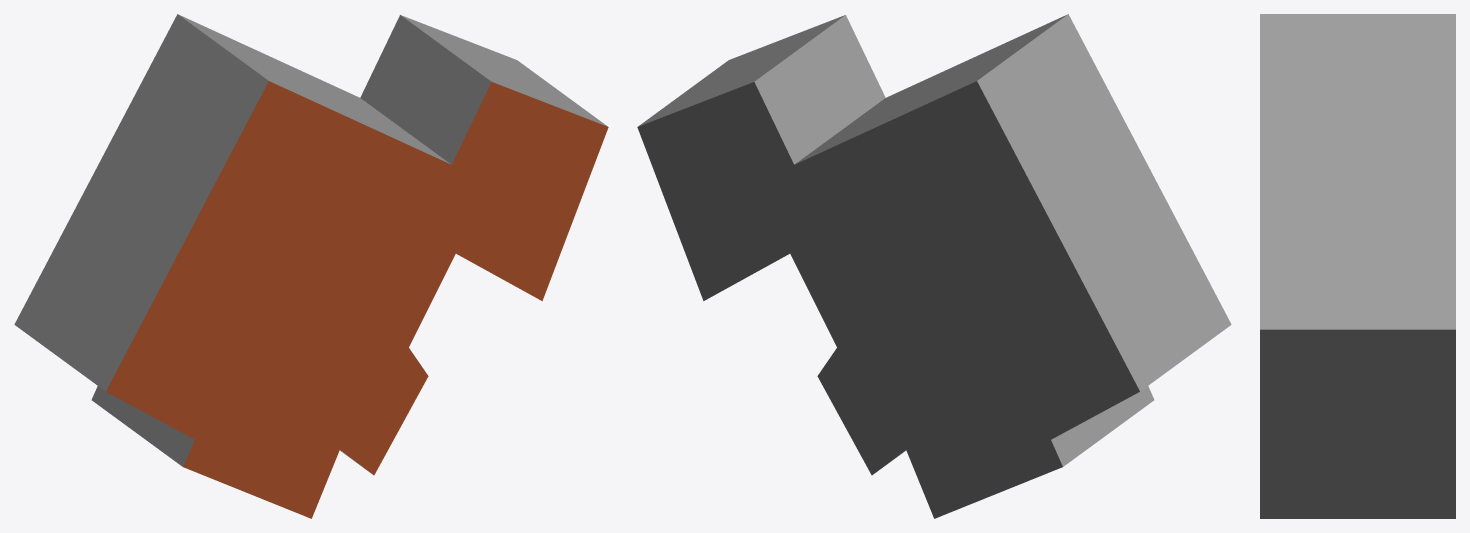
The model's file is construction_4575_assumed_A_Casa_h6m.obj.
The picture shows the model from 3 angles, left to right: view 1: azimuth 30°, elevation 25°; view 2: azimuth 150°, elevation 25°; view 3: azimuth 270°, elevation 25°; orthographic projection. The views are drawn at different scales.
Parts seen in each view (by area): view 1: construction_4575_assumed_A_Casa; view 2: construction_4575_assumed_A_Casa; view 3: construction_4575_assumed_A_Casa.
Boxes of the visible parts, x1,y1,x2,y2 form: construction_4575_assumed_A_Casa: [14, 14, 608, 518]; construction_4575_assumed_A_Casa: [637, 14, 1231, 518]; construction_4575_assumed_A_Casa: [1260, 14, 1455, 518].
Size of the model in its own units: 19.04 by 16.22 by 6.
